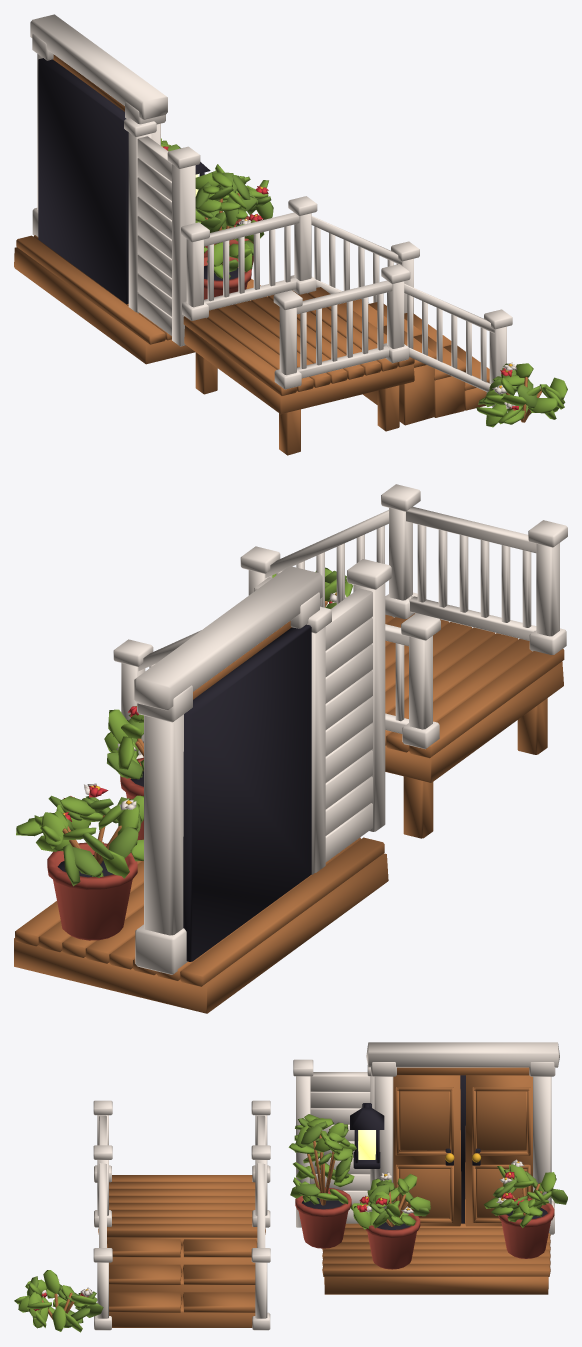
The picture shows the model from 3 angles, top to bottom: view 1: azimuth 30°, elevation 25°; view 2: azimuth 150°, elevation 25°; view 3: azimuth 270°, elevation 25°; orthographic projection. The views are drawn at different scales.
Parts seen in each view (by area): view 1: object 3; view 2: object 3; view 3: object 3, door_L, door_R.
Part boxes in pixels (x1=…): object 3: x1=14, y1=14, x2=567, y2=455; object 3: x1=14, y1=484, x2=567, y2=1013; object 3: x1=14, y1=1042, x2=567, y2=1332; door_L: x1=393, y1=1075, x2=461, y2=1226; door_R: x1=465, y1=1075, x2=532, y2=1226.
Size of the model in its own units: 3.16 by 2.78 by 6.86.
